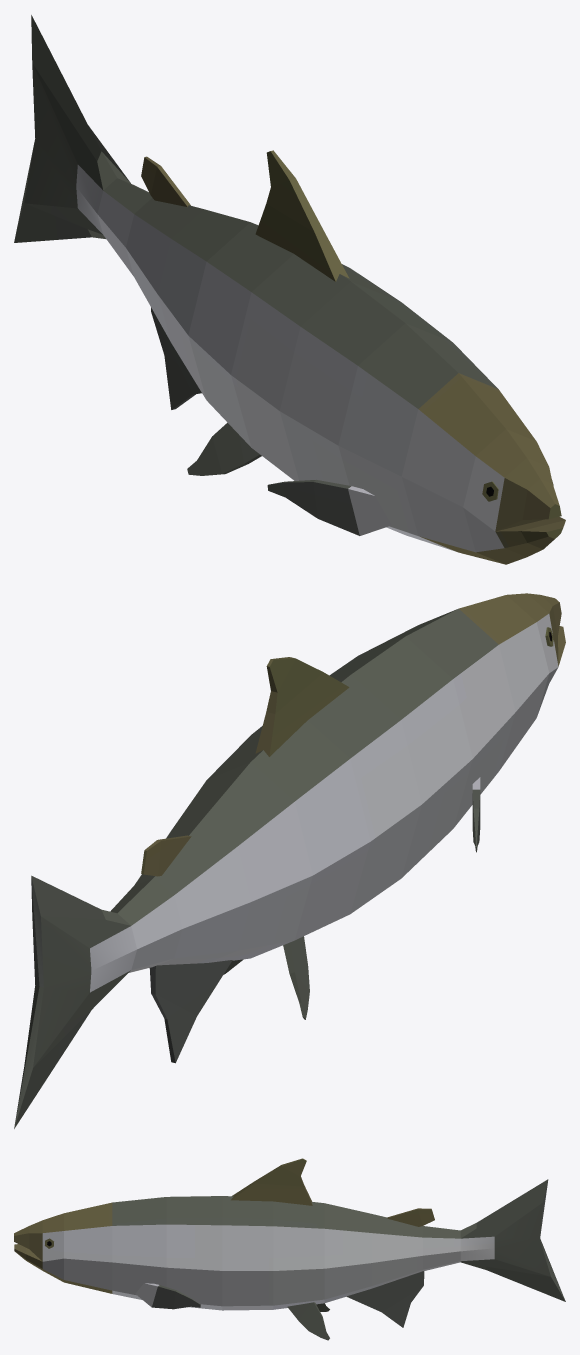
File: Fish-transformed.glb
3 renders of one model, top to bottom at view 1: azimuth 30°, elevation 25°; view 2: azimuth 150°, elevation 25°; view 3: azimuth 270°, elevation 25°, orthographic. The views are drawn at different scales.
Parts seen in each view (by area): view 1: Geo_Salmon; view 2: Geo_Salmon; view 3: Geo_Salmon.
Part boxes in pixels (x1,y1,x2,y2): Geo_Salmon: (14,15,565,564); Geo_Salmon: (14,593,565,1128); Geo_Salmon: (14,1158,565,1340).
Bounding box in the file's own units: 18.18 × 27.46 × 81.36.
Materials: 1 (1 with a texture image).
